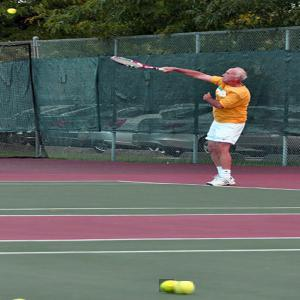TennisBall: (174, 283, 195, 295), (160, 280, 176, 294), (10, 9, 20, 14)
